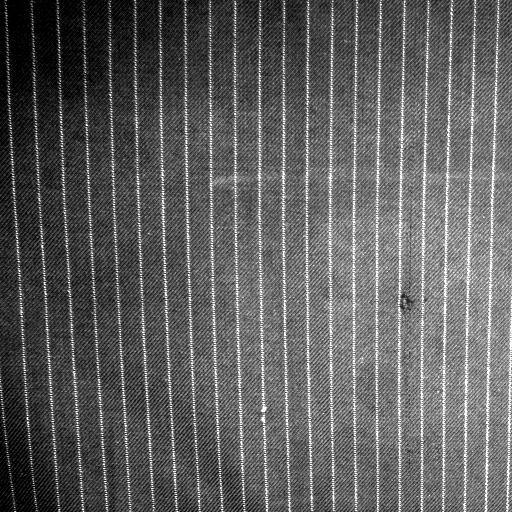fabric_hole: (395, 282, 419, 322)
